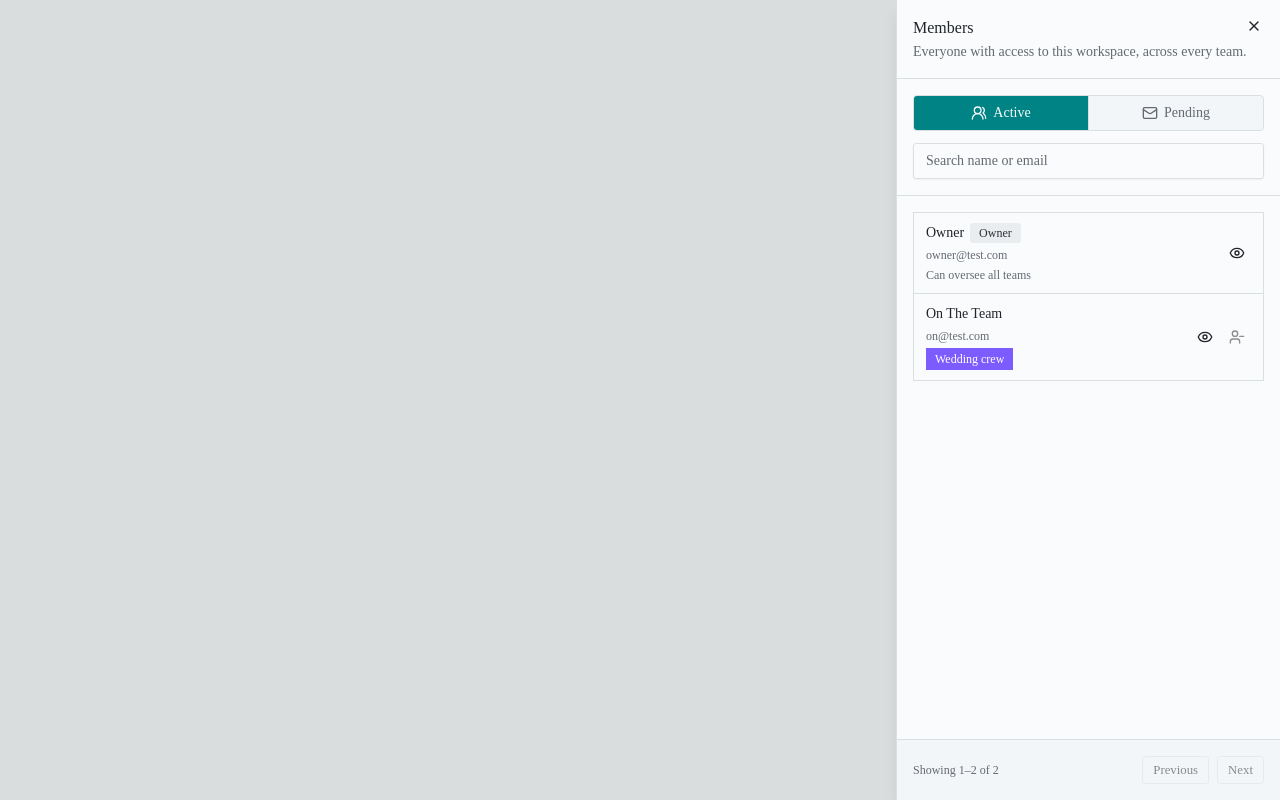
ViewMembersSidebar › distinguishes an empty member search from an actually empty pending list
This screenshot has width=1280, height=800.
Type "no match" into the search field at (1088, 161), box [913,143,1264,179]
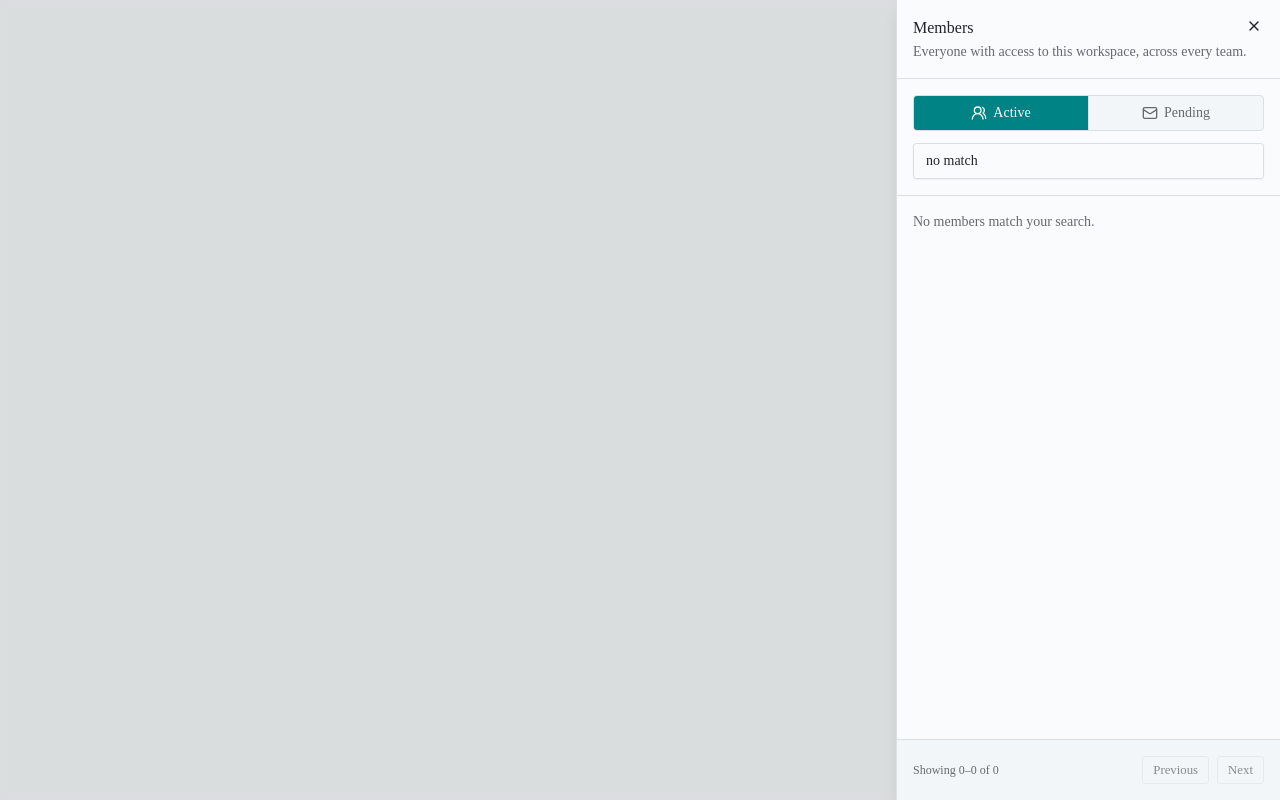
expect the text "No members match your search." is shown: met, box [913,214,1095,229]
Click the tab "Pending" at (1176, 113), box [1089,96,1263,130]
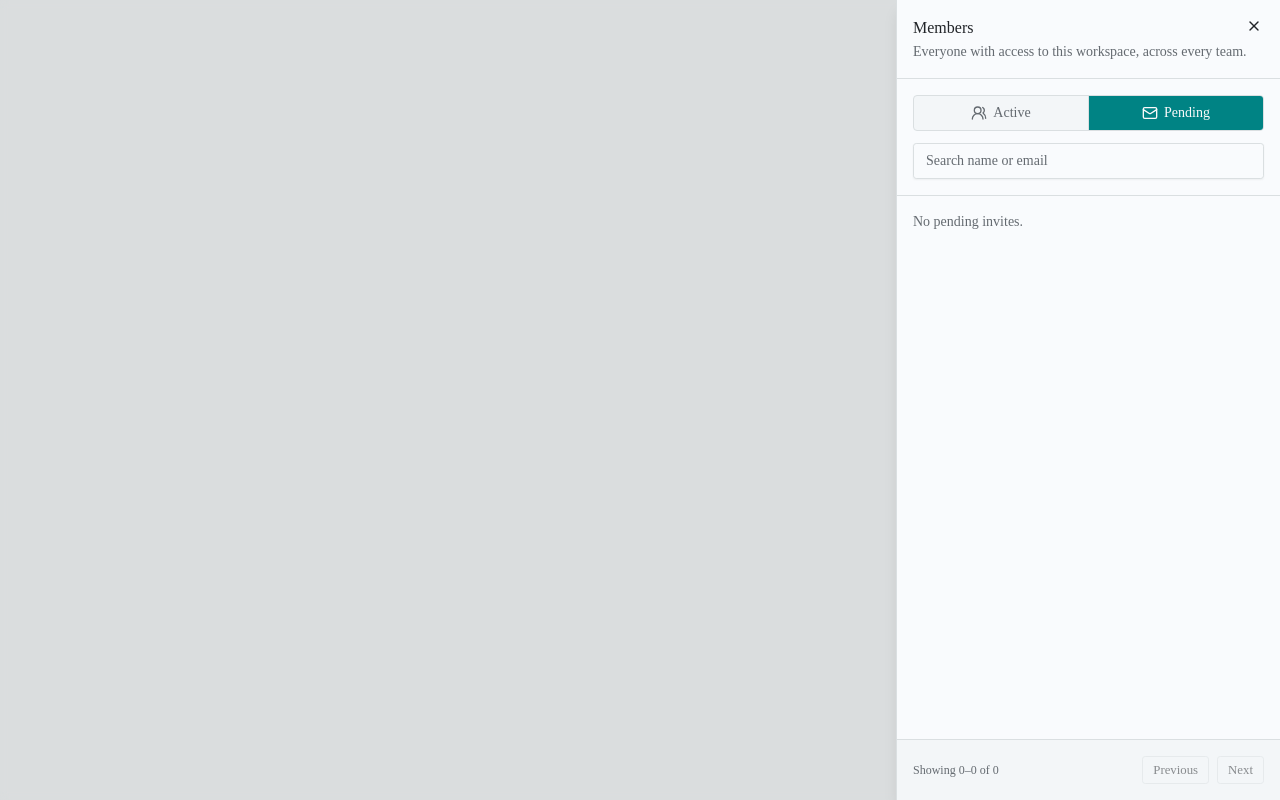
expect the text "No pending invites." is shown: met, box [913,214,1023,229]
